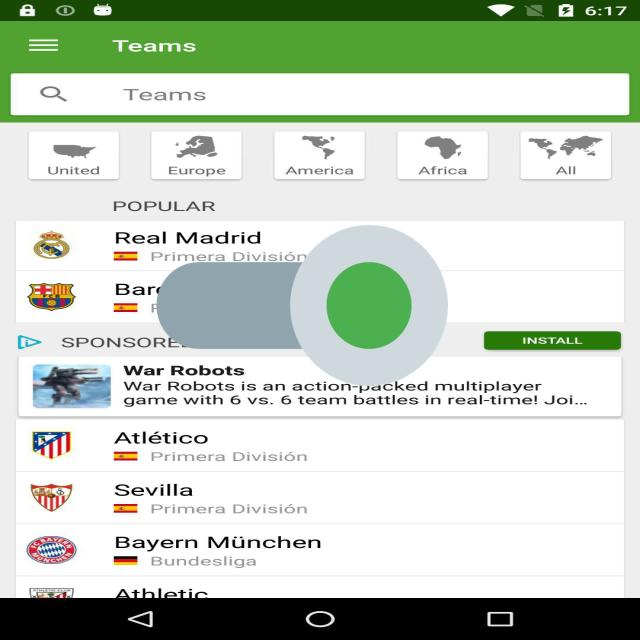social proof: (156, 157, 448, 454)
